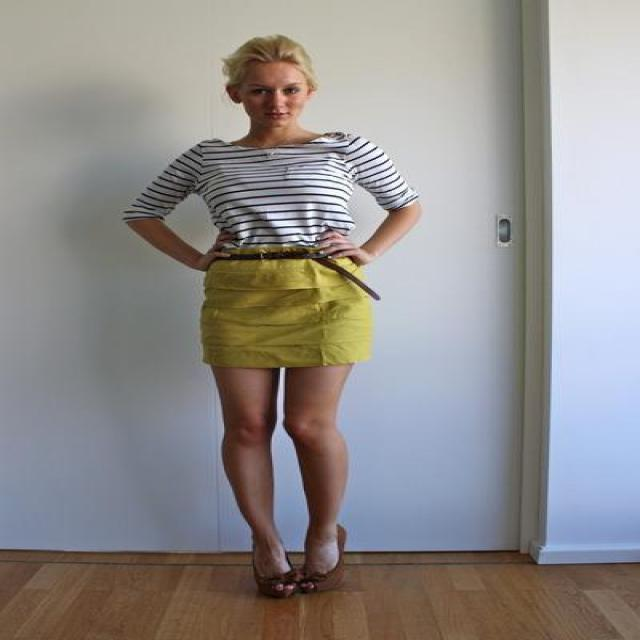shirt: (120, 138, 414, 259)
shoe: (256, 568, 344, 606)
skirt: (200, 242, 379, 370)
